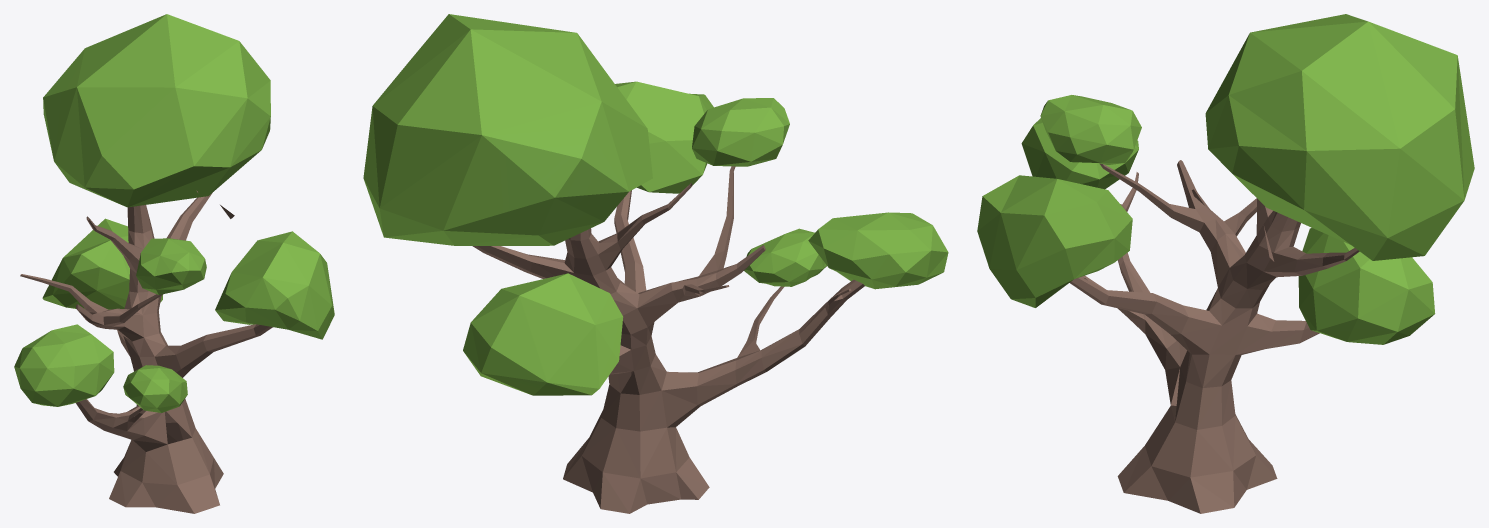
File: pohon.glb
3 renders of one model, left to right at view 1: azimuth 30°, elevation 25°; view 2: azimuth 150°, elevation 25°; view 3: azimuth 270°, elevation 25°, orthographic. The views are drawn at different scales.
Visible parts, largest first — view 1: rock02_Mesh_007_Base_0.458; view 2: rock02_Mesh_007_Base_0.458; view 3: rock02_Mesh_007_Base_0.458.
Boxes of the visible parts, x1,y1,x2,y2 form: rock02_Mesh_007_Base_0.458: (14,14,334,513); rock02_Mesh_007_Base_0.458: (363,14,948,513); rock02_Mesh_007_Base_0.458: (977,14,1474,513).
Bounding box in the file's own units: 7.07 × 7.97 × 7.2.
1 material, 1 textured.
